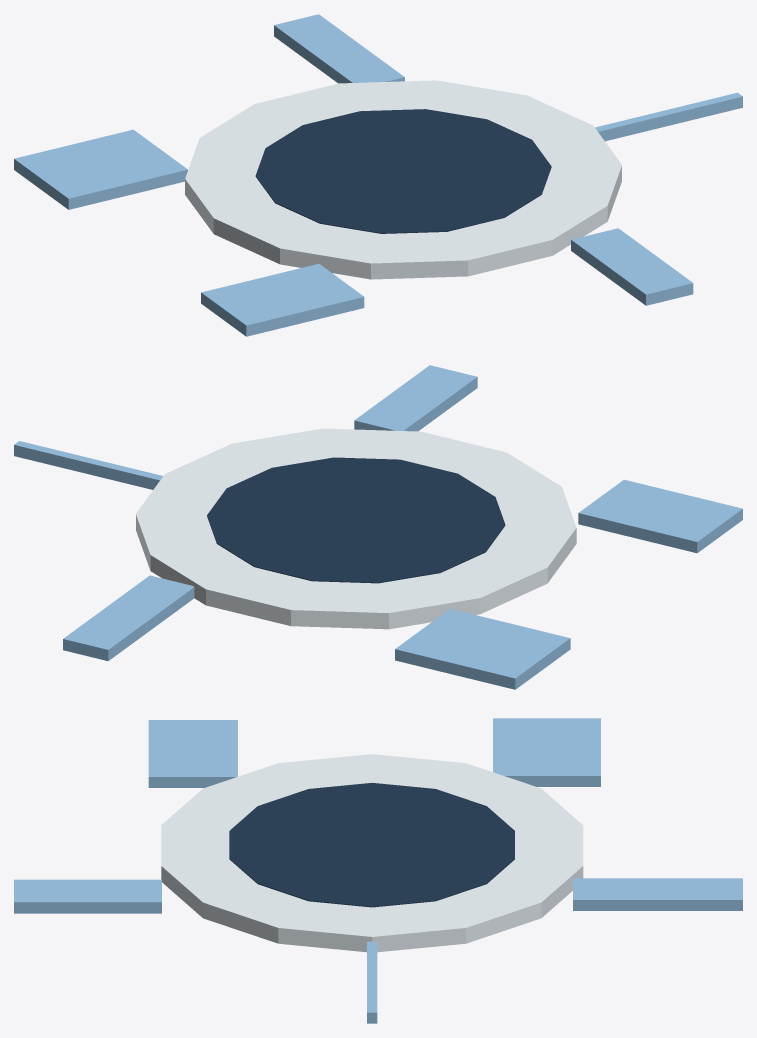
The model's file is ice_hole.glb.
3 views of the same model, one above another, from view 1: azimuth 30°, elevation 25°; view 2: azimuth 150°, elevation 25°; view 3: azimuth 270°, elevation 25° (orthographic). The views are drawn at different scales.
Visible parts, largest first — view 1: rim, water, crack2, crack3, crack4, crack1, crack0; view 2: rim, water, crack2, crack3, crack1, crack4, crack0; view 3: rim, water, crack2, crack3, crack1, crack4, crack0.
Boxes of the visible parts, bbox=[...] form: rim: bbox=[185, 80, 621, 279]; water: bbox=[255, 109, 551, 233]; crack2: bbox=[14, 129, 187, 209]; crack3: bbox=[201, 264, 364, 336]; crack4: bbox=[571, 228, 693, 305]; crack1: bbox=[274, 14, 404, 83]; crack0: bbox=[595, 92, 742, 141]; rim: bbox=[136, 428, 576, 629]; water: bbox=[207, 457, 505, 583]; crack2: bbox=[395, 609, 570, 689]; crack3: bbox=[578, 479, 742, 553]; crack1: bbox=[63, 575, 194, 661]; crack4: bbox=[354, 365, 477, 431]; crack0: bbox=[14, 441, 162, 489]; rim: bbox=[161, 754, 583, 952]; water: bbox=[229, 782, 514, 907]; crack2: bbox=[493, 718, 600, 786]; crack3: bbox=[148, 720, 237, 787]; crack1: bbox=[573, 878, 742, 910]; crack4: bbox=[14, 879, 161, 913]; crack0: bbox=[367, 941, 377, 1023].
Size of the model in its own units: 1.99 by 0.0525 by 2.09.
